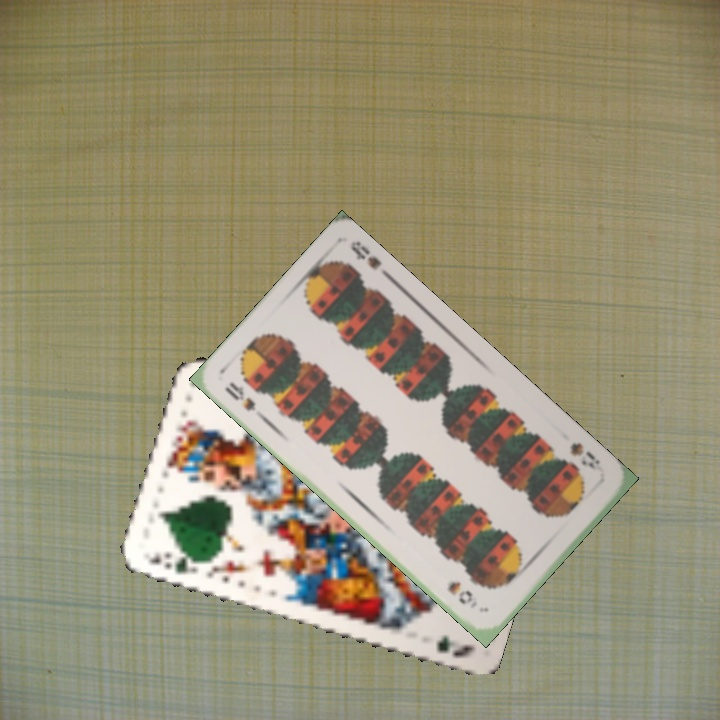GK: (142, 550, 201, 577)
S8: (220, 378, 267, 422), (566, 438, 604, 476)
